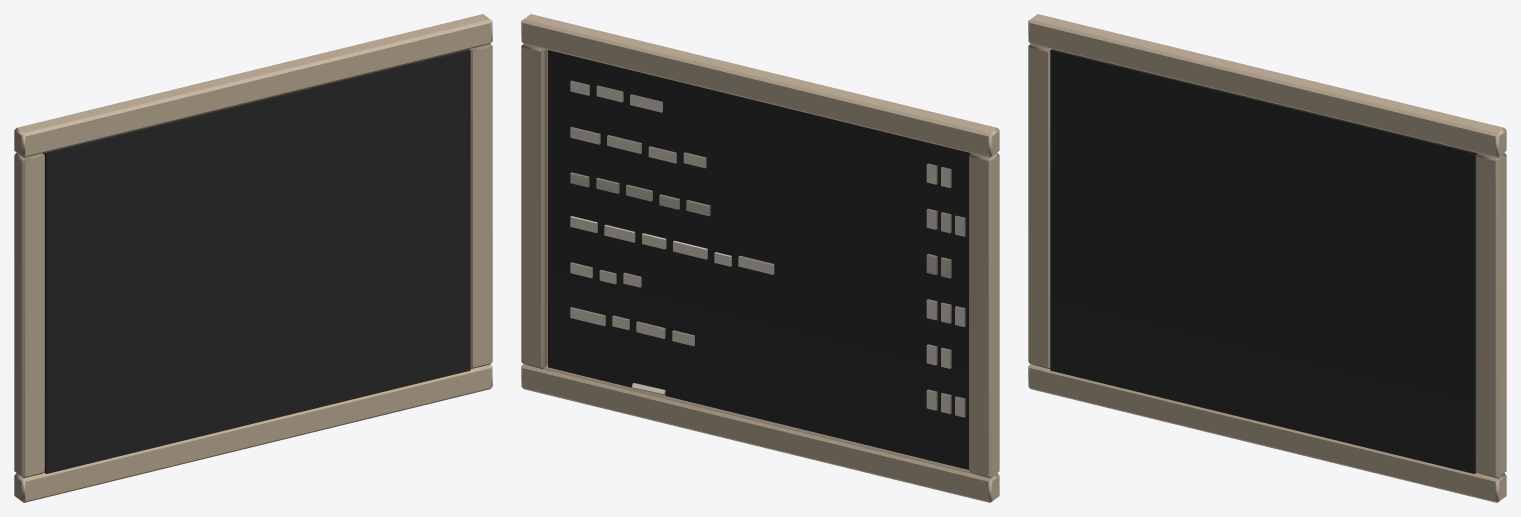
The model's file is price_board.glb.
3 views of the same model, side by side, from view 1: azimuth 30°, elevation 25°; view 2: azimuth 150°, elevation 25°; view 3: azimuth 330°, elevation 25° (orthographic).
Visible parts, largest first — view 1: static; view 2: static; view 3: static.
Boxes of the visible parts, x1,y1,x2,y2 form: static: (14,14,492,502); static: (521,14,999,502); static: (1028,14,1506,502).
Size of the model in its own units: 0.6 by 0.45 by 0.022.
